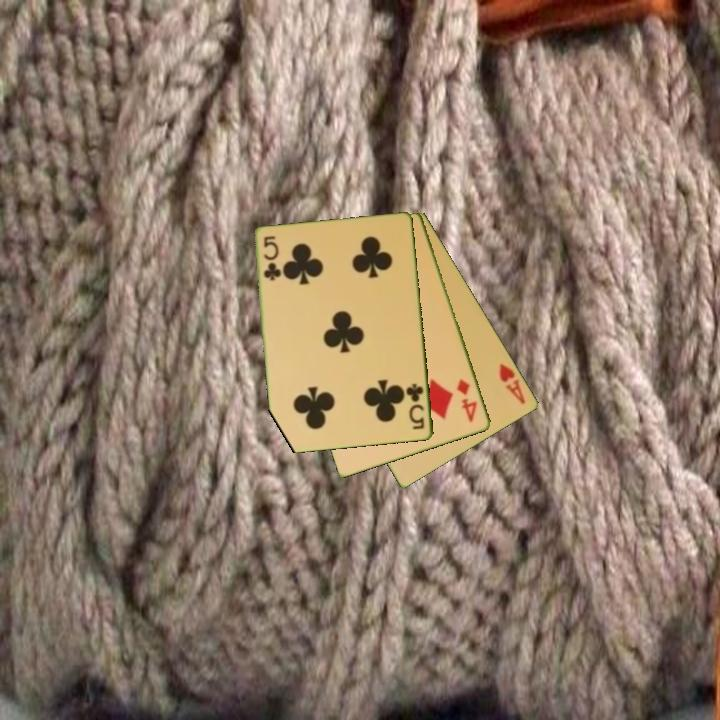4d: (453, 375, 481, 425)
5c: (403, 380, 427, 433), (260, 233, 282, 284)
Ah: (496, 360, 529, 407)
